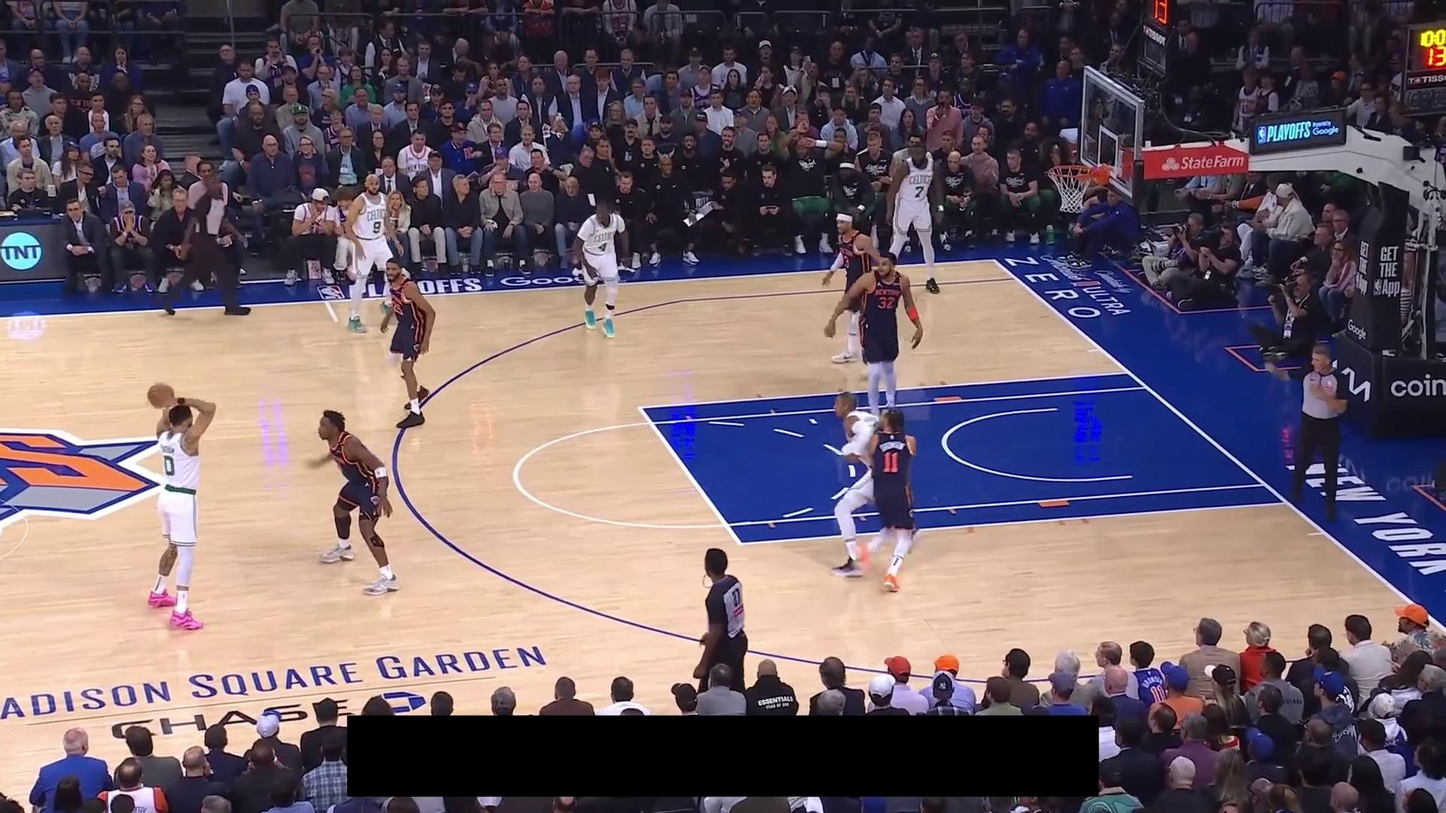ball: (146, 382, 176, 410)
number: (882, 451, 900, 474), (164, 455, 175, 477), (878, 295, 895, 309), (390, 300, 403, 315), (371, 219, 382, 235), (914, 184, 925, 199), (598, 240, 609, 254)
player: (305, 408, 402, 598), (824, 250, 924, 428), (855, 404, 923, 593), (340, 172, 405, 334), (827, 391, 881, 579), (378, 257, 437, 428), (820, 210, 882, 361), (884, 136, 942, 294), (571, 197, 631, 340)
player-in-possession: (145, 381, 218, 633)
referee: (1267, 344, 1349, 521), (160, 165, 252, 318), (694, 549, 749, 693)
rim: (1047, 164, 1096, 179)
